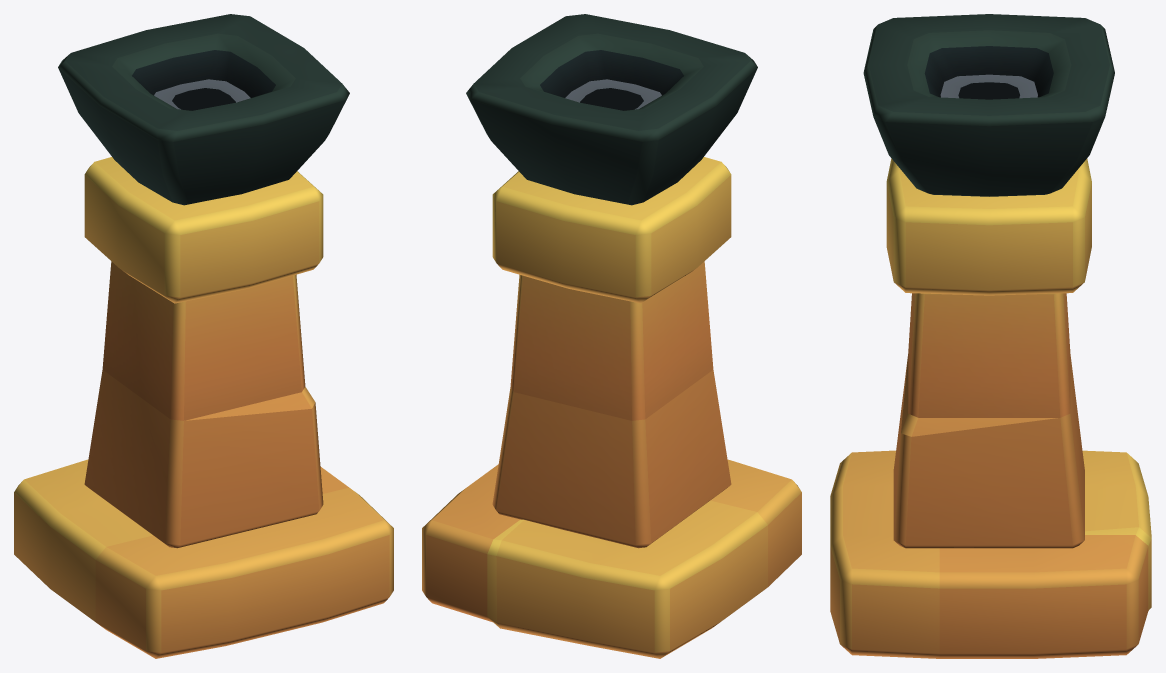
File: torch_standing_black.fbx
The picture shows the model from 3 angles, left to right: view 1: azimuth 30°, elevation 25°; view 2: azimuth 150°, elevation 25°; view 3: azimuth 270°, elevation 25°; orthographic projection. The views are drawn at different scales.
Visible parts, largest first — view 1: torch_standing_black; view 2: torch_standing_black; view 3: torch_standing_black.
Part boxes in pixels (box(x1,y1,x2,y2)): torch_standing_black: box(14, 14, 393, 658); torch_standing_black: box(422, 14, 801, 658); torch_standing_black: box(830, 14, 1151, 658).
Size of the model in its own units: 167 by 309 by 168.
